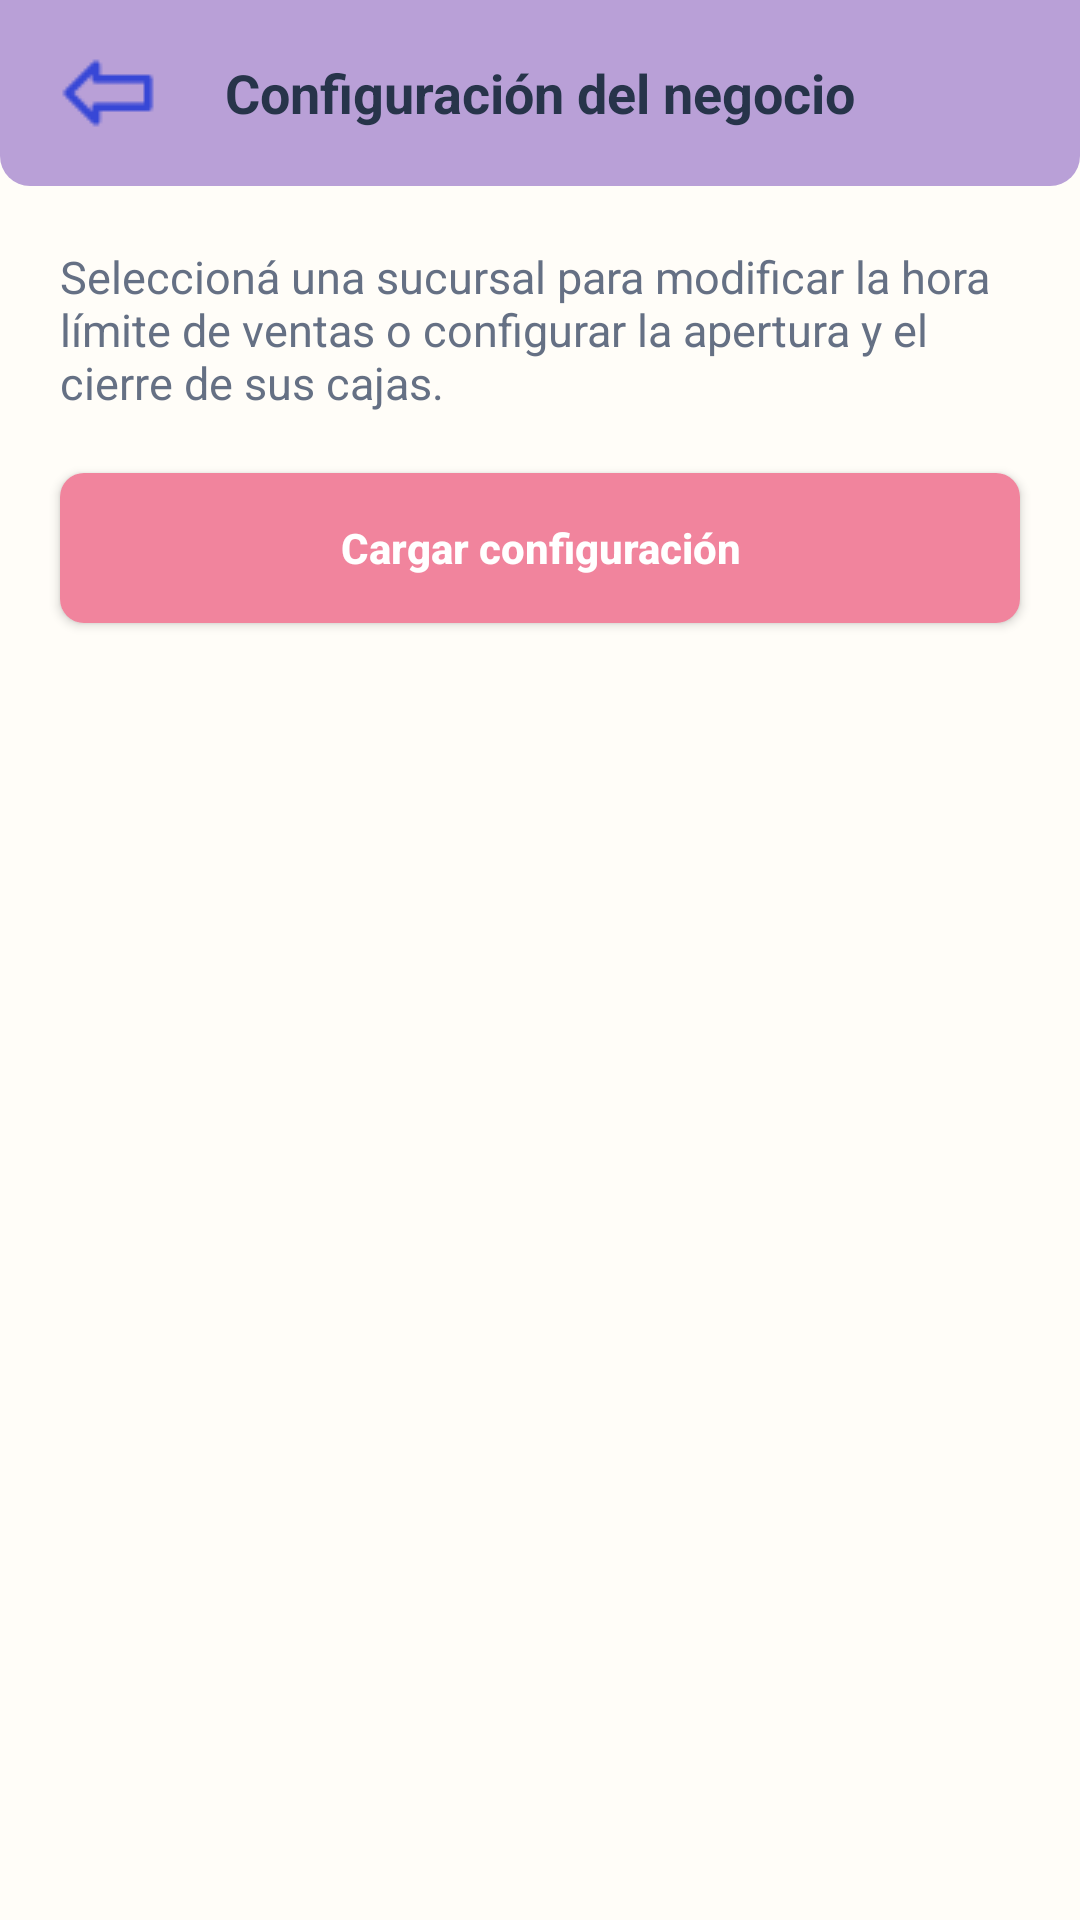

Screen size 1080w x 1920h. Icon name, then its center in pixels as point (x, y):
Volver: point (108, 93)
